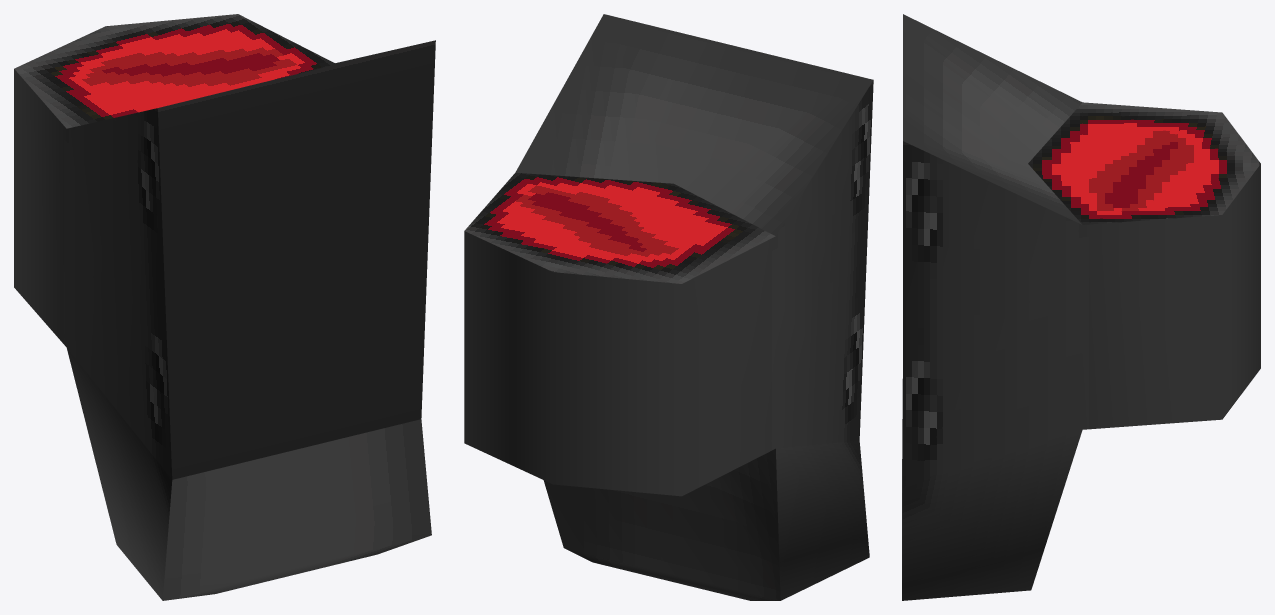
File: SOCOMRedDot.fbx
The picture shows the model from 3 angles, left to right: view 1: azimuth 30°, elevation 25°; view 2: azimuth 150°, elevation 25°; view 3: azimuth 270°, elevation 25°; orthographic projection. The views are drawn at different scales.
Visible parts, largest first — view 1: node_f23b70eb_3241_4d97_a4da_cdbfa0db56ec_mesh0; view 2: node_f23b70eb_3241_4d97_a4da_cdbfa0db56ec_mesh0; view 3: node_f23b70eb_3241_4d97_a4da_cdbfa0db56ec_mesh0.
Part boxes in pixels (x1,y1,x2,y2): node_f23b70eb_3241_4d97_a4da_cdbfa0db56ec_mesh0: (14,14,435,600); node_f23b70eb_3241_4d97_a4da_cdbfa0db56ec_mesh0: (464,14,873,600); node_f23b70eb_3241_4d97_a4da_cdbfa0db56ec_mesh0: (902,14,1260,600).
Size of the model in its own units: 0.0274 by 0.0471 by 0.0327.
